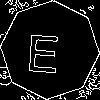E: (25, 25, 62, 73)
